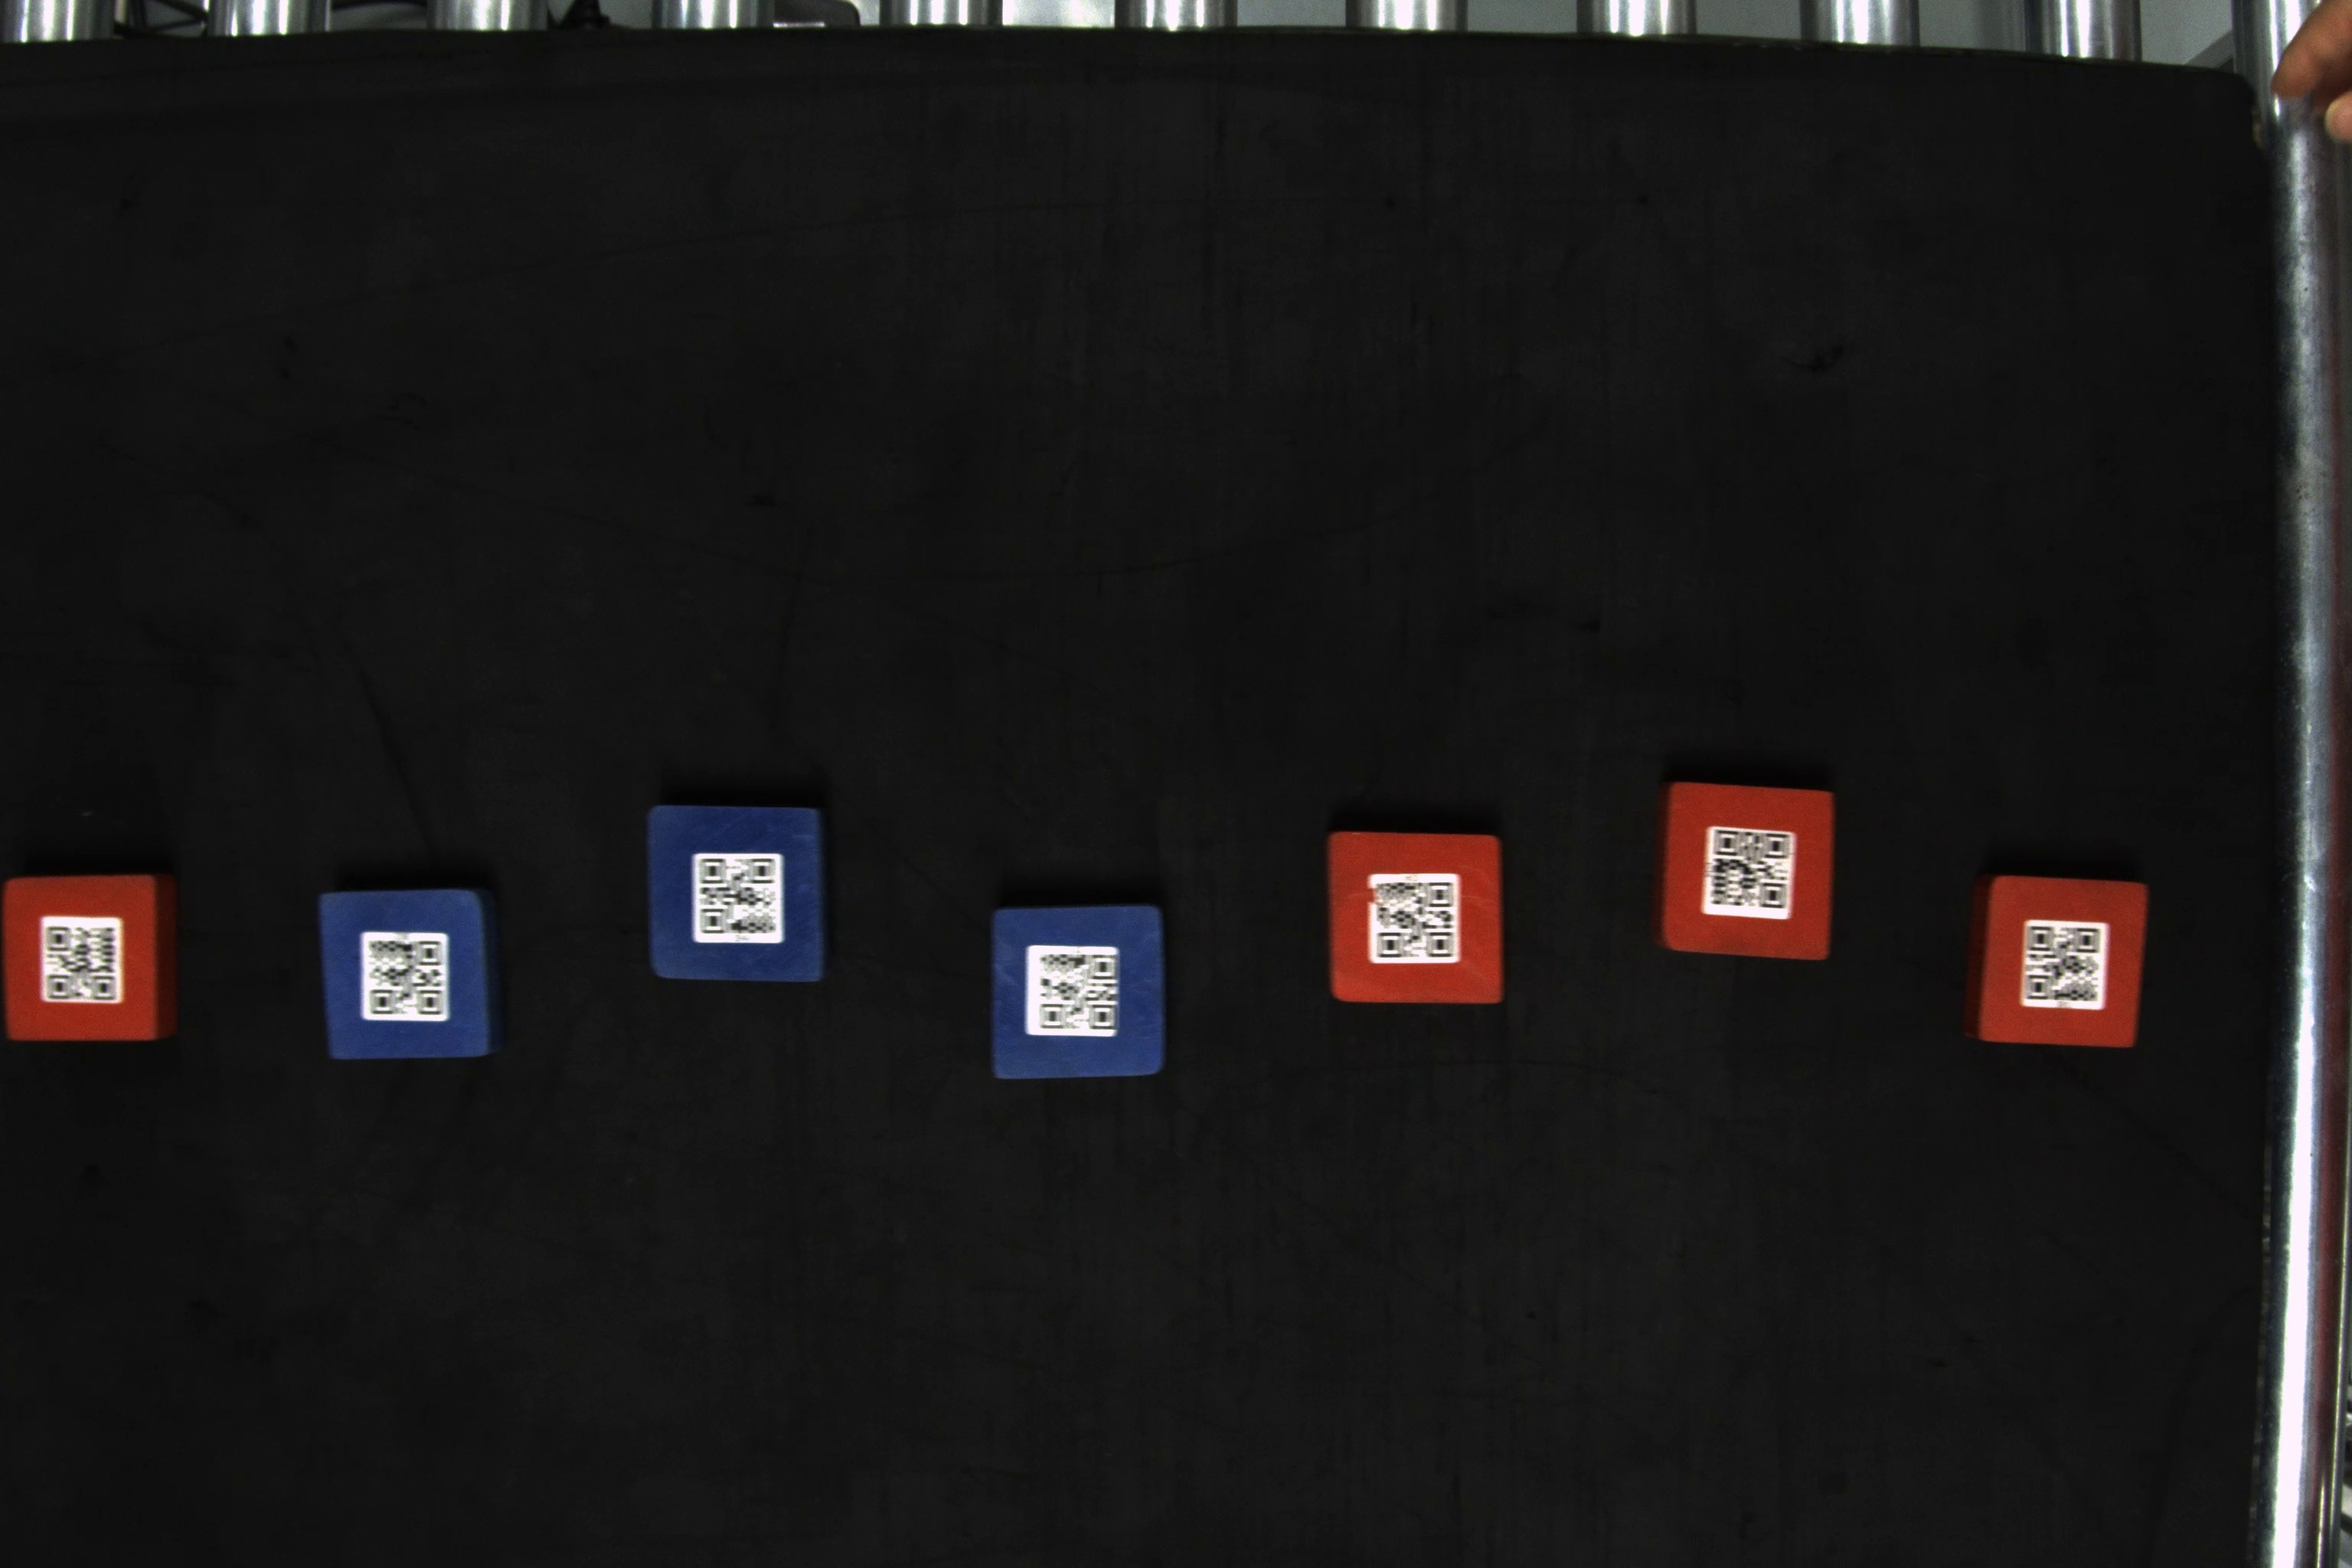wood: (640, 794, 836, 987), (1958, 868, 2154, 1053), (985, 899, 1178, 1085), (311, 884, 507, 1066), (1652, 779, 1843, 964), (1323, 826, 1512, 1011), (2, 880, 178, 1045)
